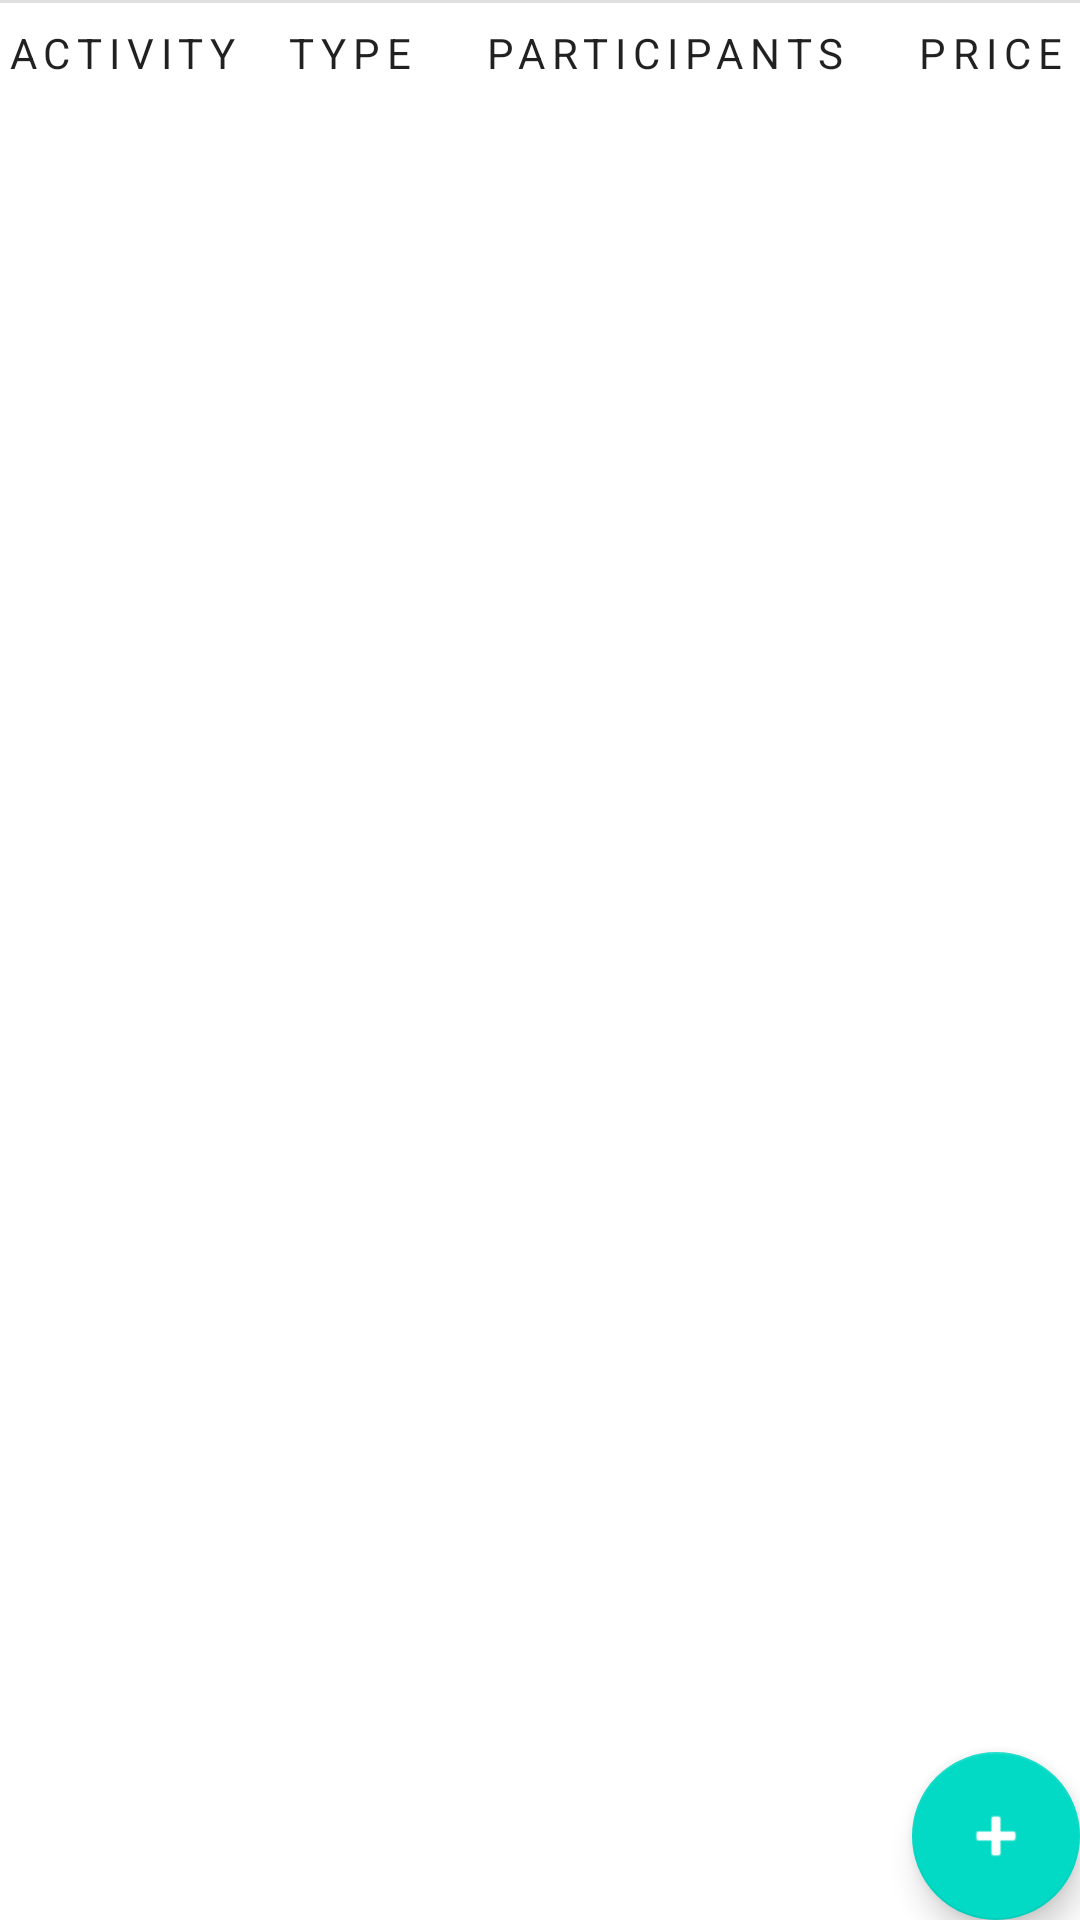

Icons on this 1080px×1920px Android screen, each with its box as (x1, y1, x2, y2):
Add to DB: (912, 1752, 1080, 1920)
